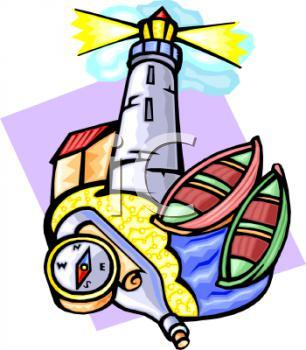boat: (146, 132, 268, 234), (210, 164, 291, 288)
bottle: (40, 209, 193, 349)
